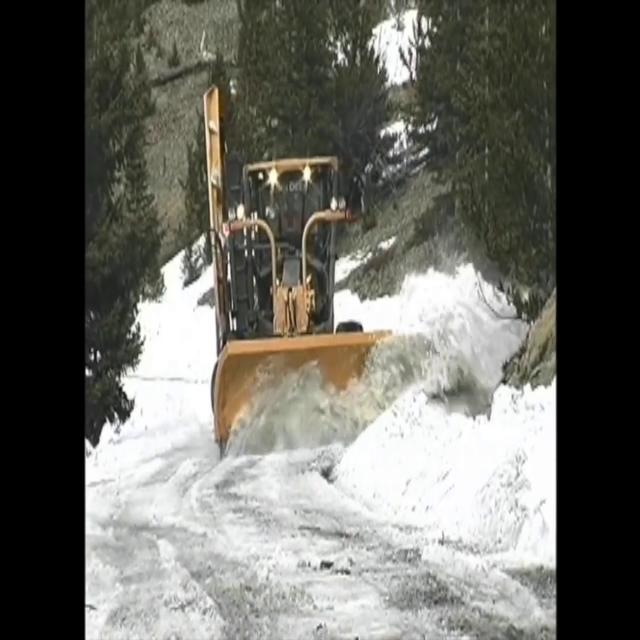buldozerpayloadergrader: (204, 86, 396, 459)
